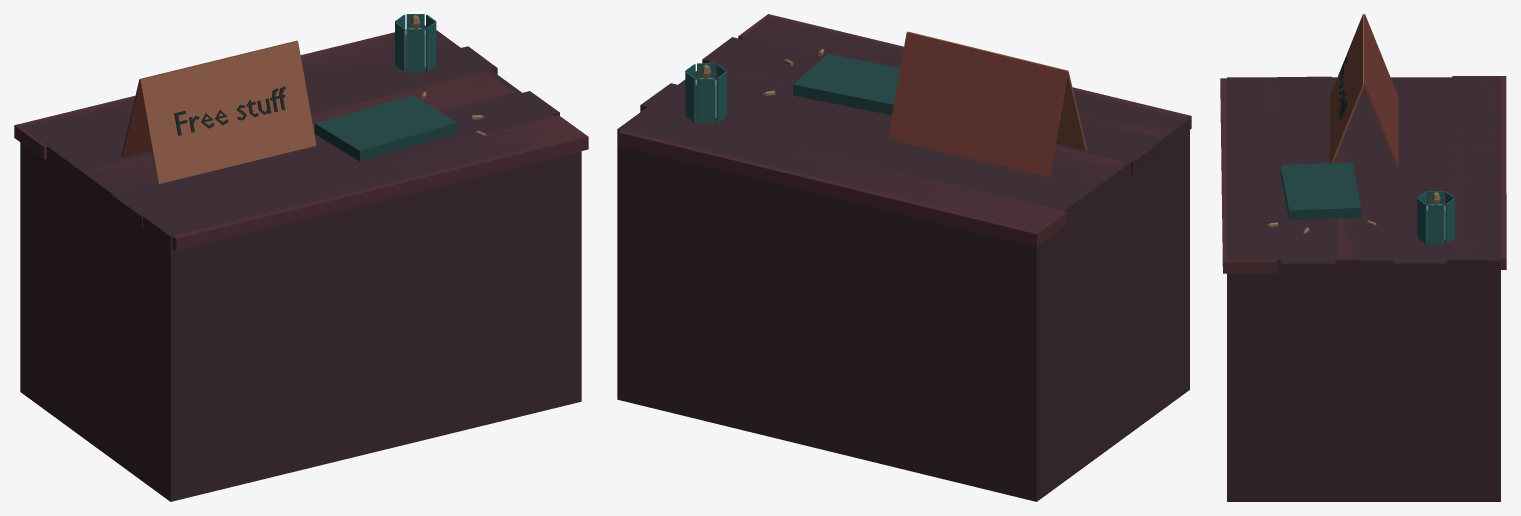
Rendered from masa_pistol_pg.glb.
3 views of the same model, side by side, from view 1: azimuth 30°, elevation 25°; view 2: azimuth 150°, elevation 25°; view 3: azimuth 270°, elevation 25° (orthographic). The views are drawn at different scales.
Visible parts, largest first — view 1: Coliziune, Masa; view 2: Coliziune, Masa; view 3: Coliziune, Masa.
Part boxes in pixels (x1,y1,x2,y2): Coliziune: (20,27,581,501); Masa: (14,14,588,251); Coliziune: (617,17,1189,501); Masa: (618,14,1191,246); Coliziune: (1227,77,1500,501); Masa: (1220,14,1506,275).
Size of the model in its own units: 1.23 by 0.9965 by 0.7941.
